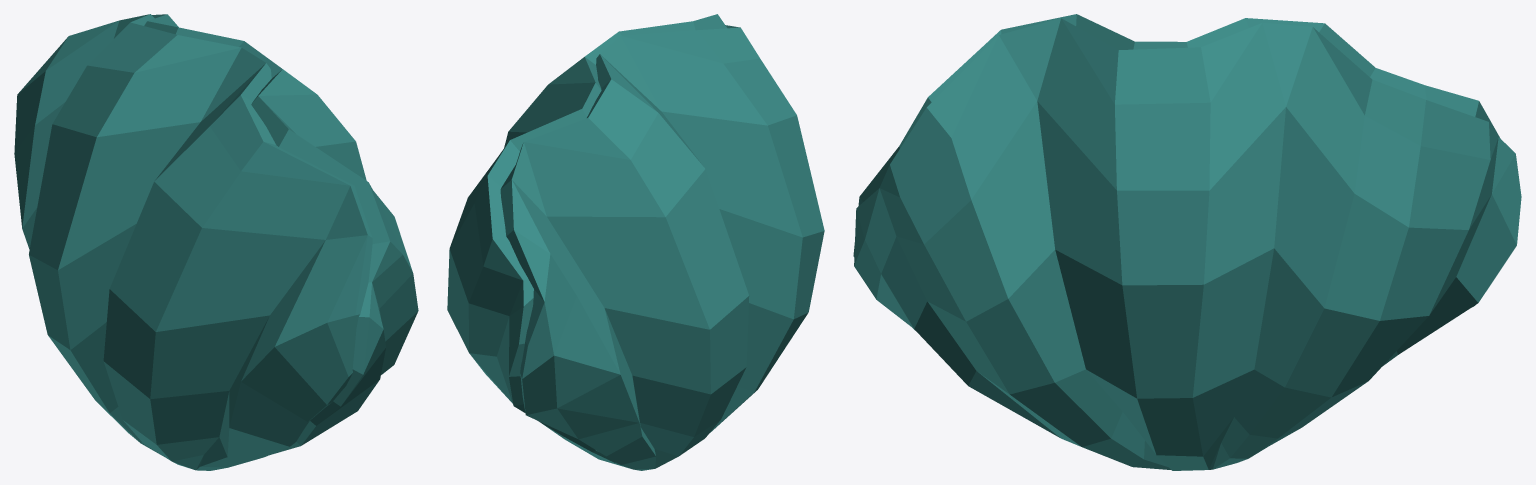
File: SM_Sea_Shell_Giant.fbx
3 renders of one model, left to right at view 1: azimuth 30°, elevation 25°; view 2: azimuth 150°, elevation 25°; view 3: azimuth 270°, elevation 25°, orthographic. The views are drawn at different scales.
Visible parts, largest first — view 1: sea-shell-giant-l, sea-shell-giant-r; view 2: sea-shell-giant-l, sea-shell-giant-r; view 3: sea-shell-giant-r, sea-shell-giant-l.
Boxes of the visible parts, <box> form: sea-shell-giant-l: <box>14,14,372,470</box>; sea-shell-giant-r: <box>144,14,418,454</box>; sea-shell-giant-l: <box>500,25,824,470</box>; sea-shell-giant-r: <box>447,14,726,468</box>; sea-shell-giant-r: <box>854,18,1521,470</box>; sea-shell-giant-l: <box>853,14,1500,306</box>.
Size of the model in its own units: 0.3925 by 0.5563 by 0.7392.
